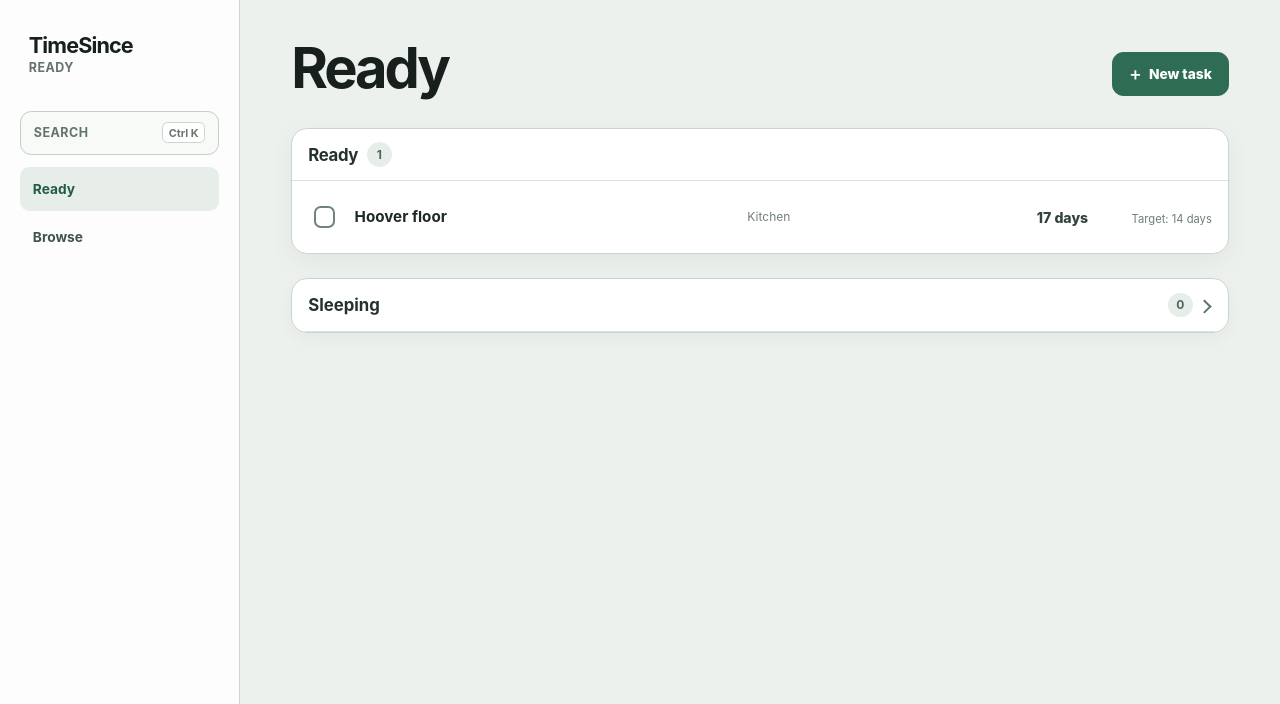
Test: Ready view › records a historical completion from the editor and undoes its exact ID
This screenshot has width=1280, height=704.
Click the button with aria-label "Edit Hoover floor": (781,217) [351,188,1212,246]
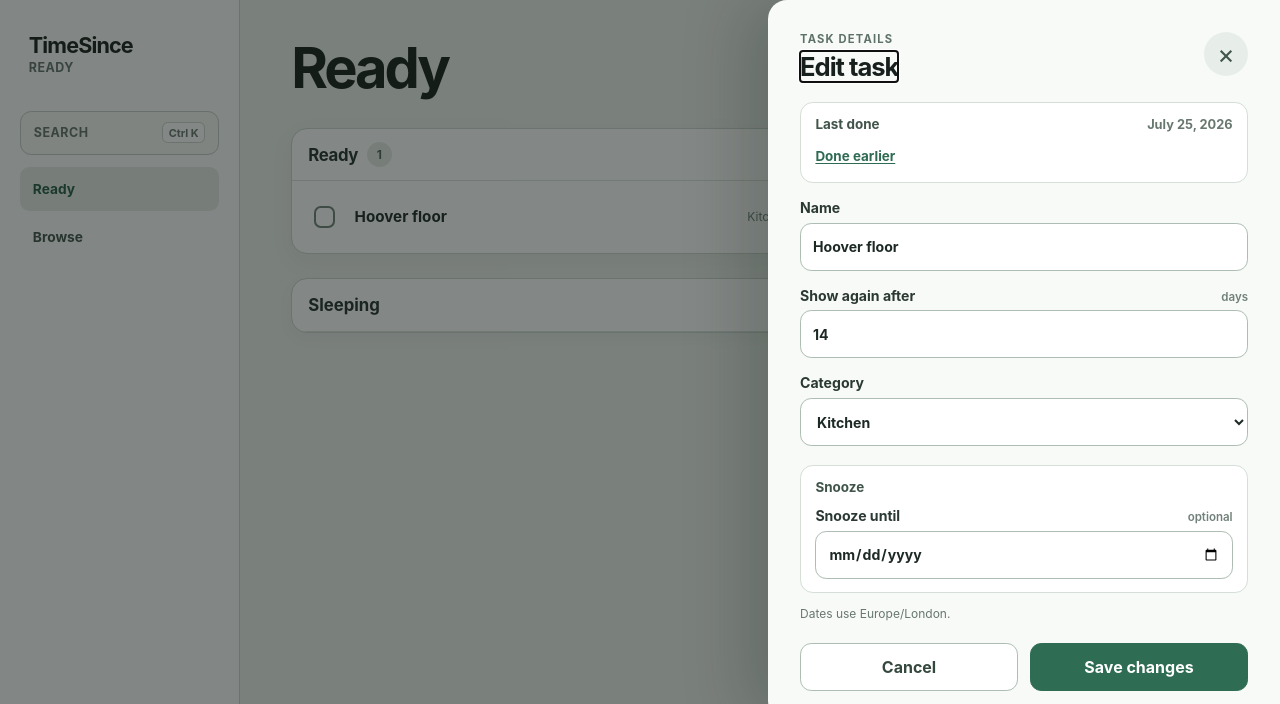
Expected: the text "Dates use Europe/London." is shown, [800,606,950,621]
Replace the text in the field labelled "Name" with "Unsaved task name": (1024,247) [800,223,1248,271]
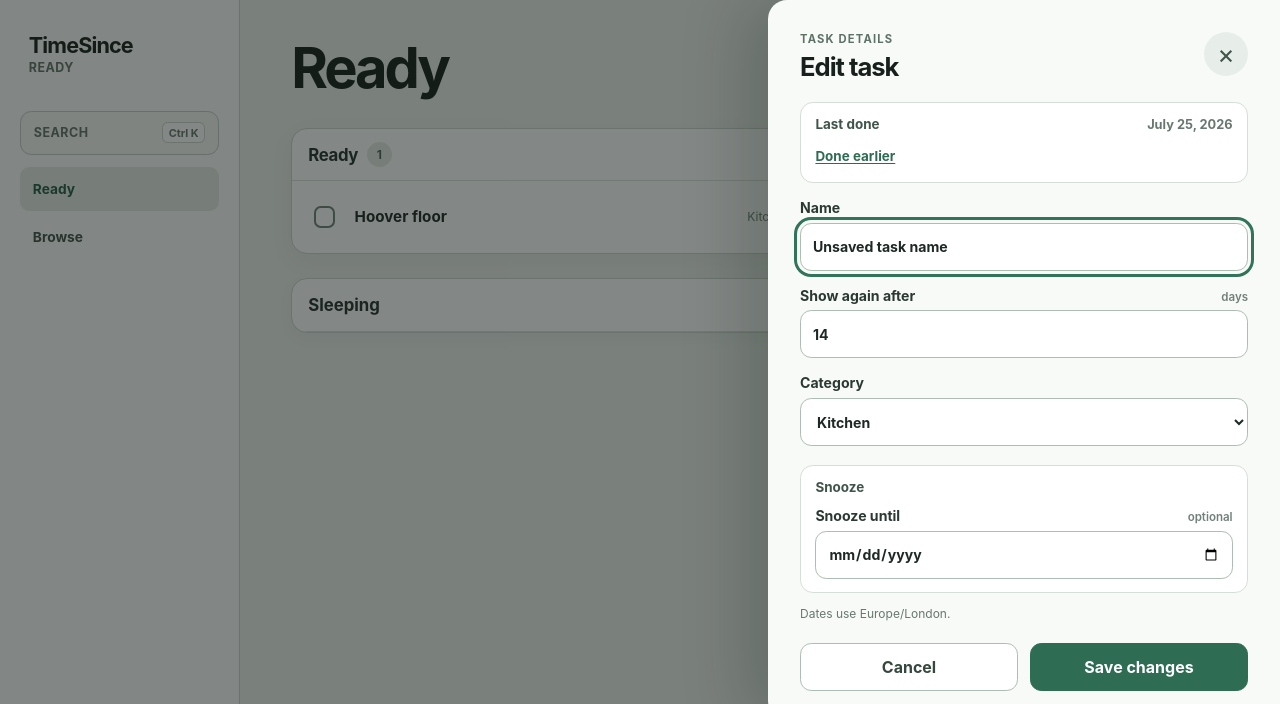
Click the button "Done earlier": (855,156) [815,144,895,168]
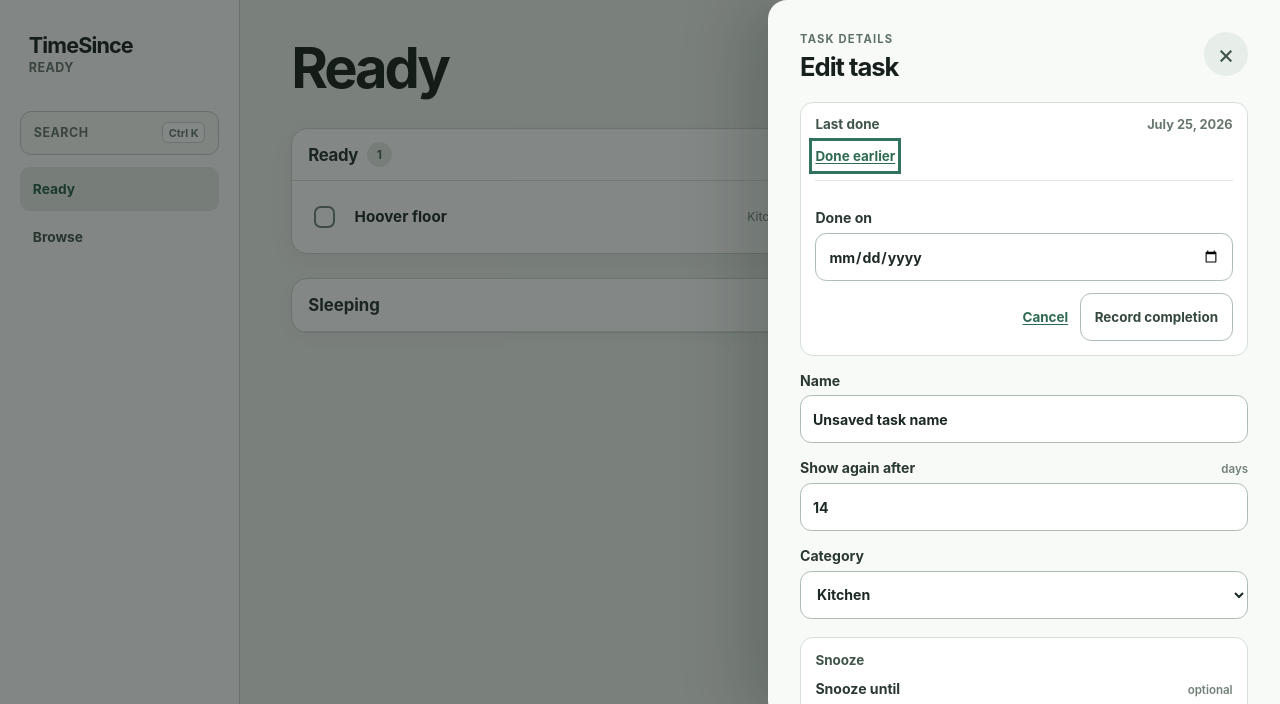
In the date field labelled "Done on": (1024,257) [815,233,1233,281], type "2026-08-05"
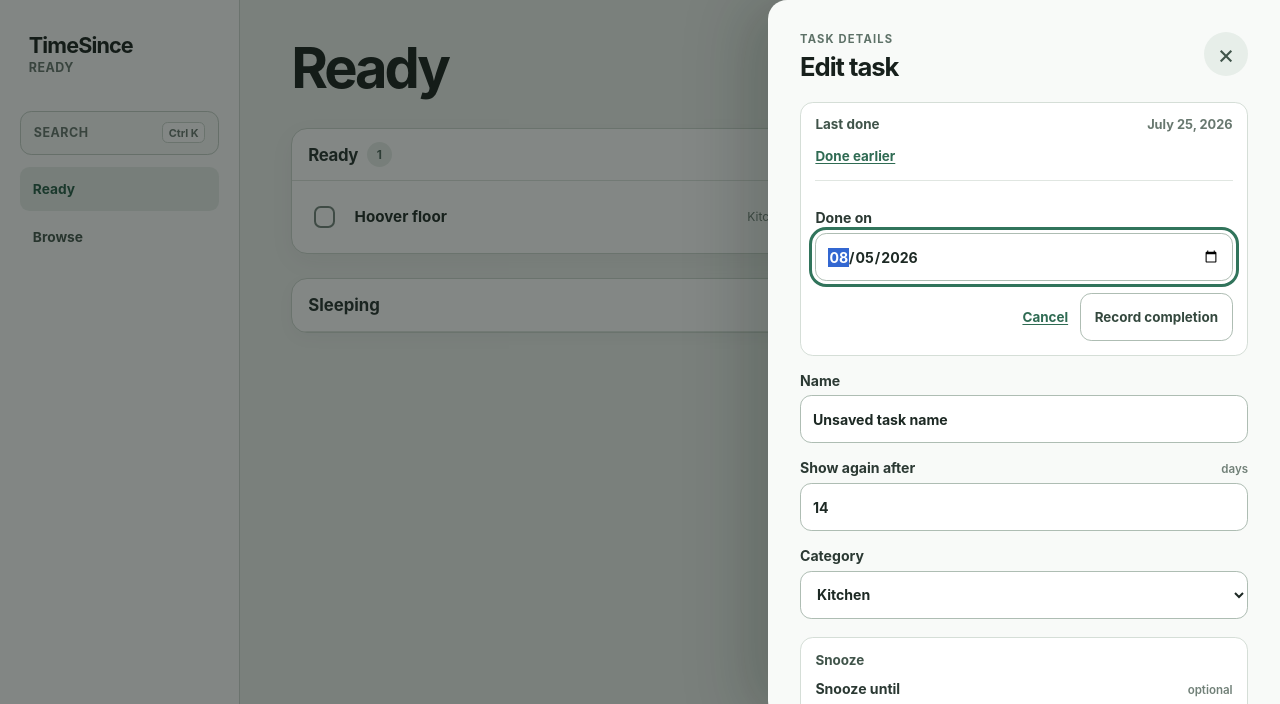
Click the button "Record completion": (1156,317) [1080,293,1233,341]
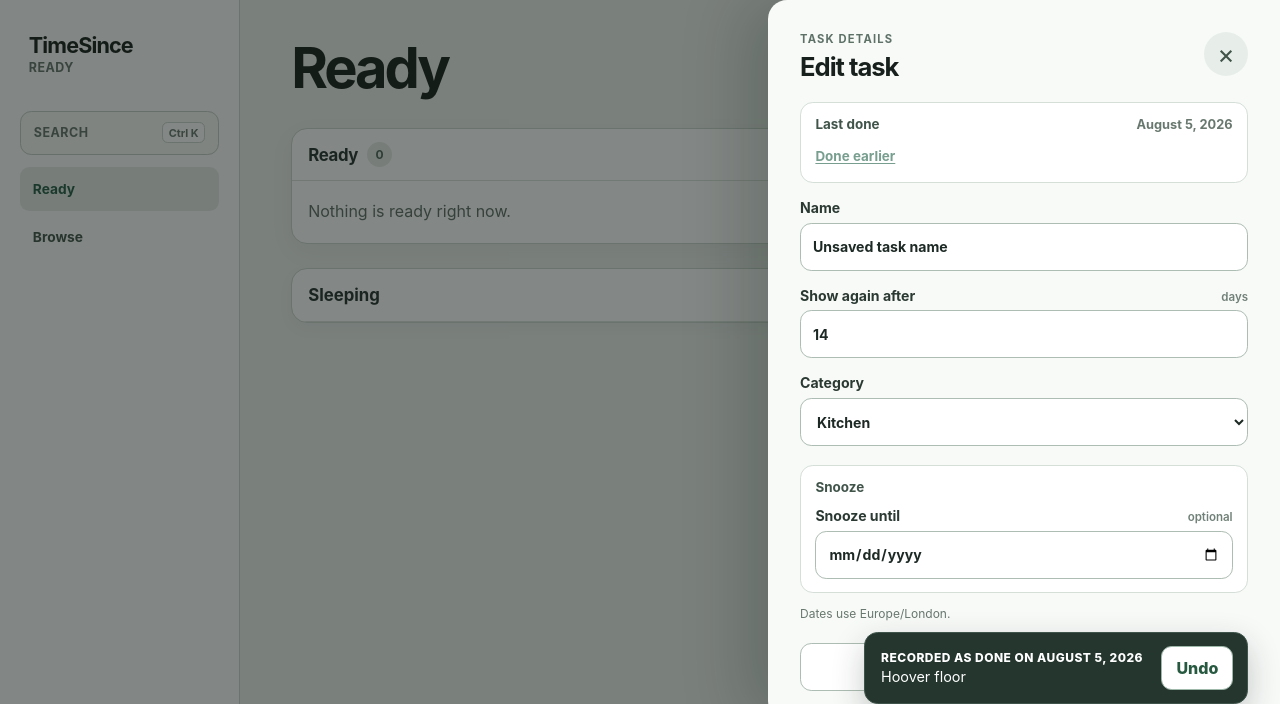
Expected: the text "August 5, 2026" is shown, [1136,117,1233,132]
Expected: the text "Recorded as done on August 5, 2026" is shown, [881,650,1145,665]
Click the button with aria-label "Undo completion of Hoover floor": (1197,668) [1161,646,1233,690]
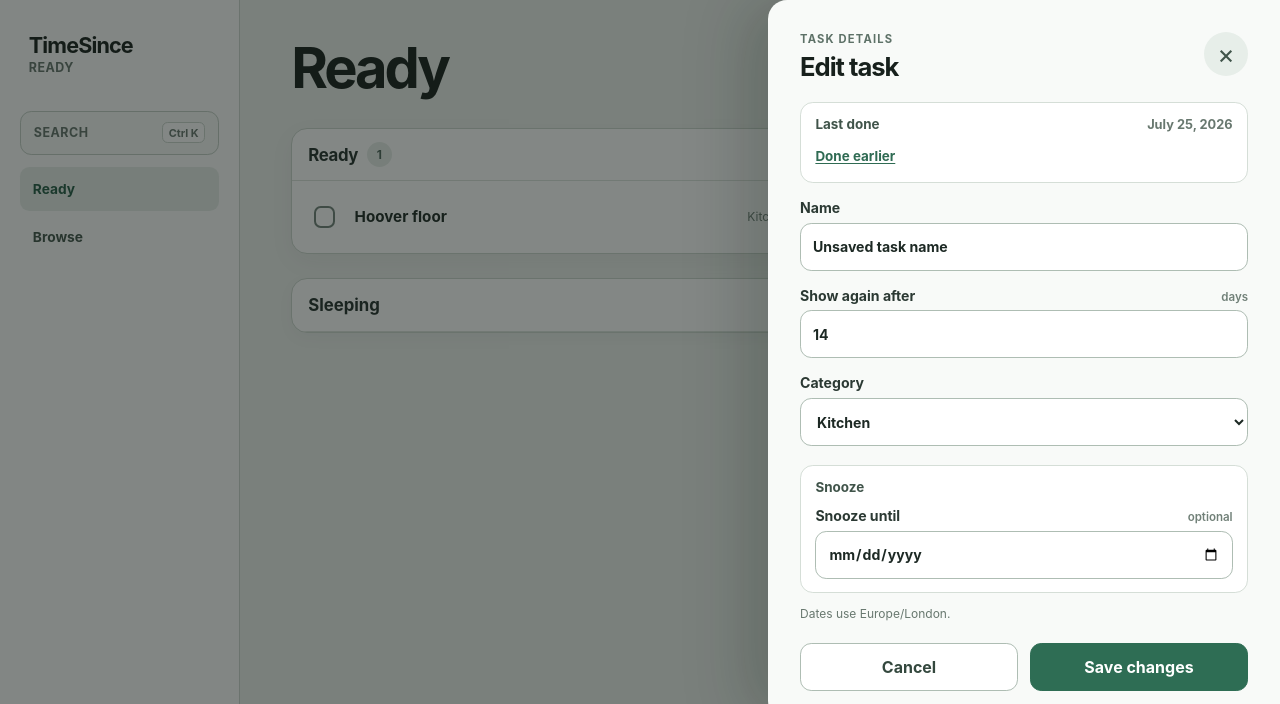
Expected: the text "July 25, 2026" is shown, [1147,117,1233,132]
